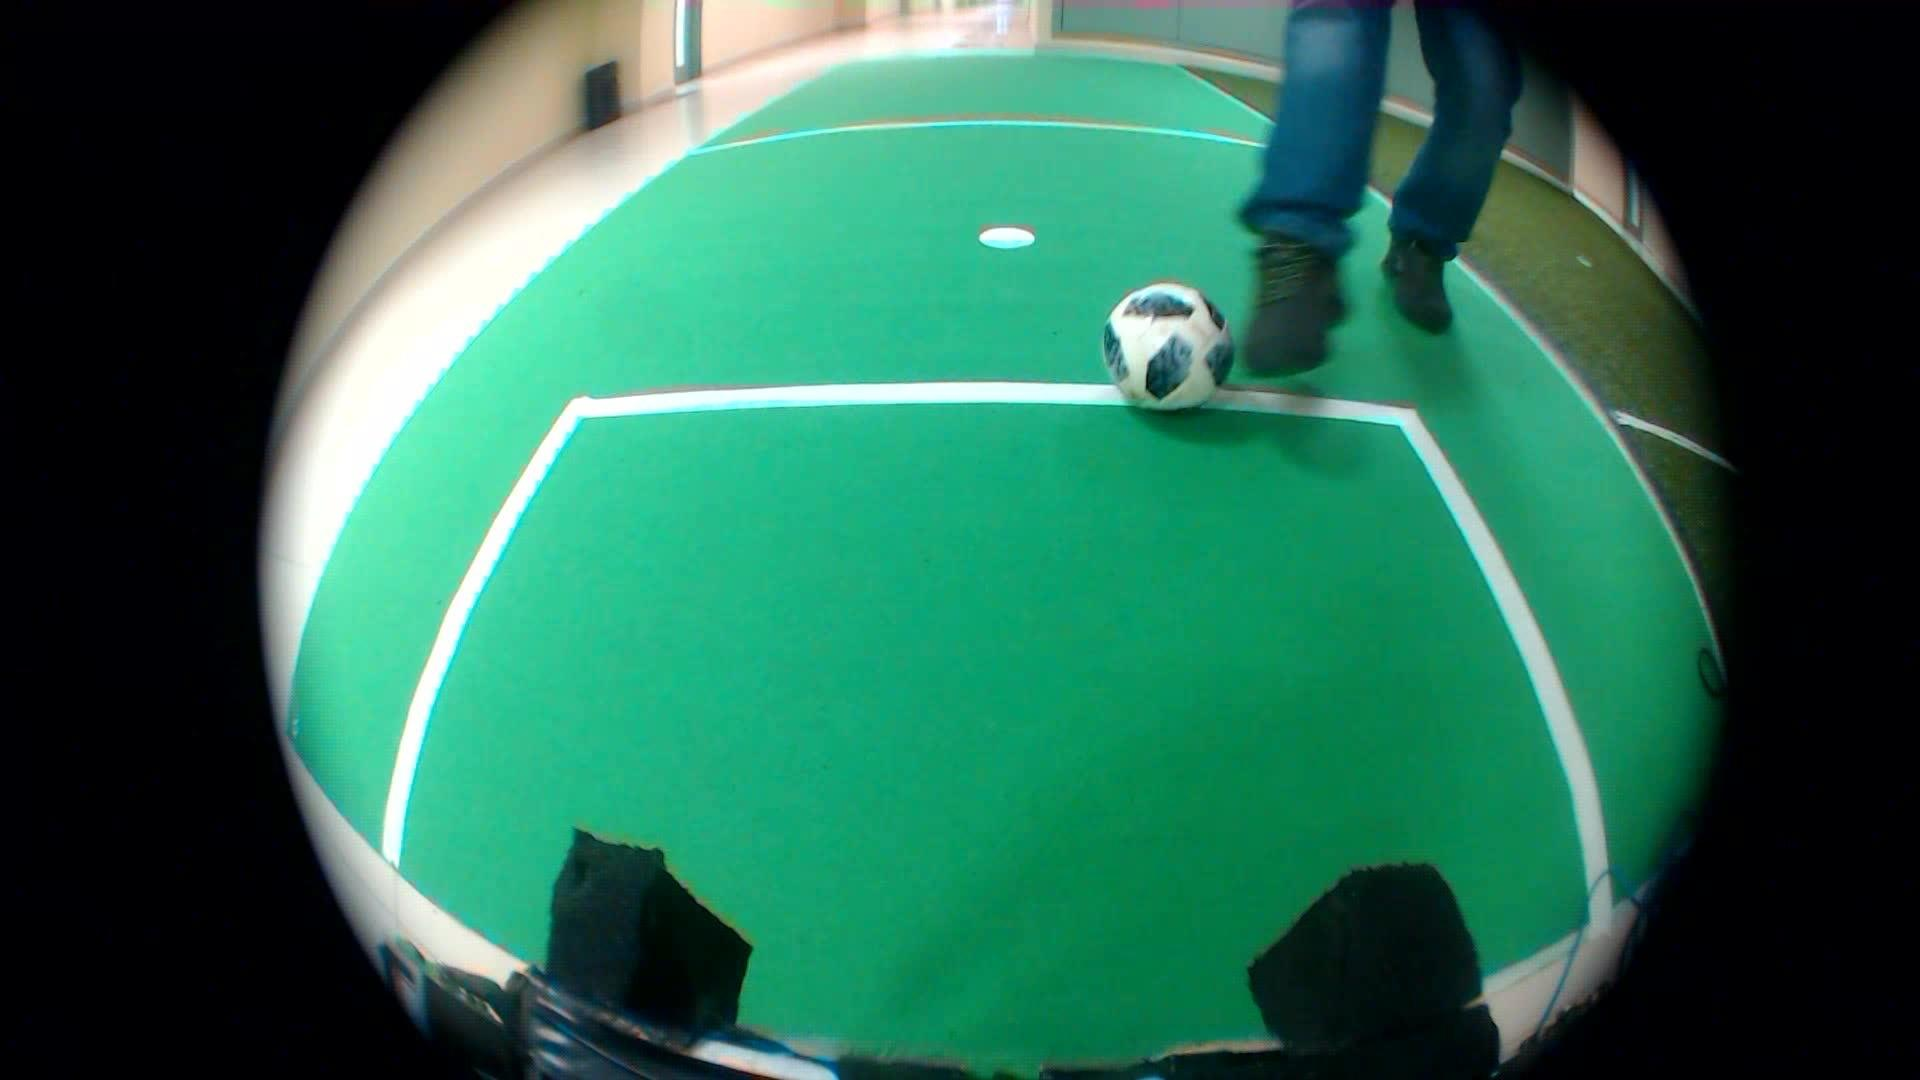ball: (1085, 264, 1247, 439)
